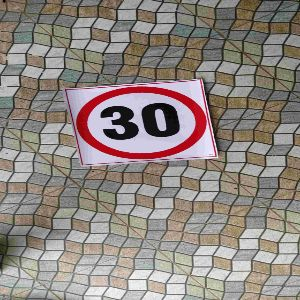speedlimit30: (67, 86, 215, 160)
